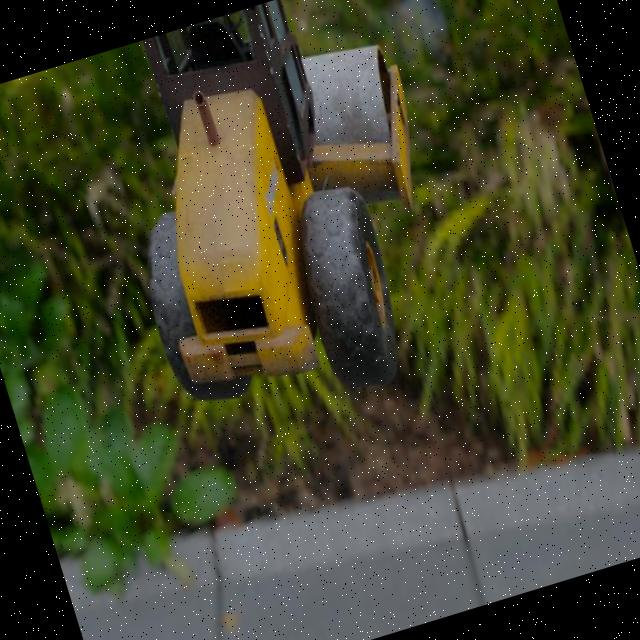Roller: (73, 0, 484, 444)
